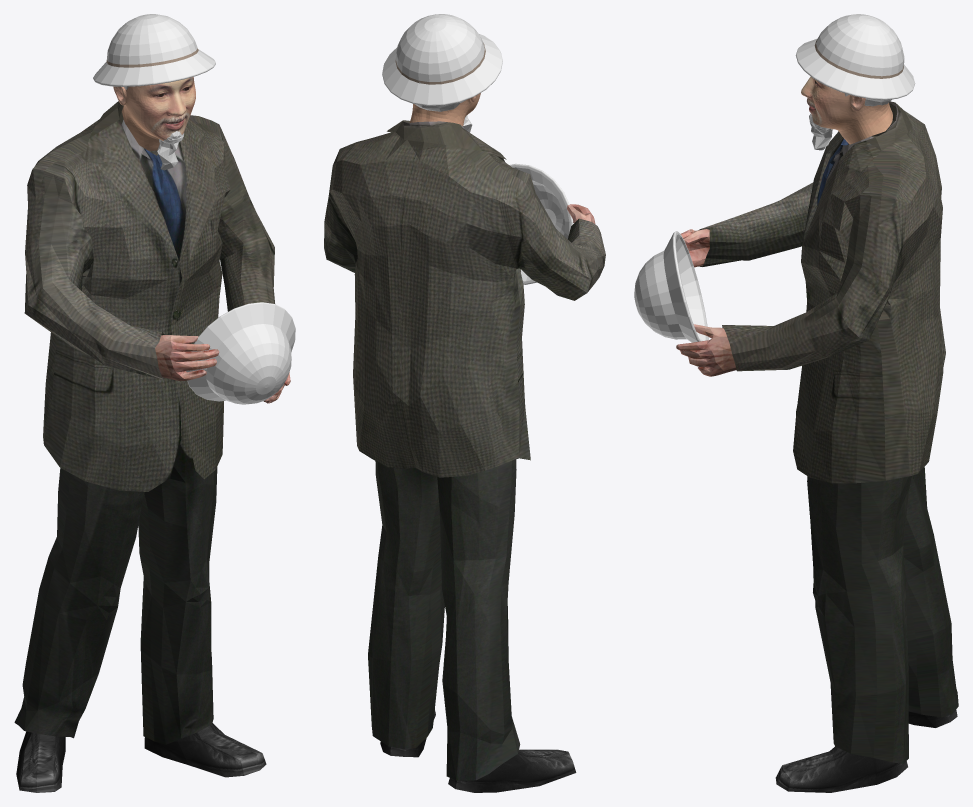
The model's file is HCM.glb.
3 renders of one model, left to right at view 1: azimuth 30°, elevation 25°; view 2: azimuth 150°, elevation 25°; view 3: azimuth 270°, elevation 25°, orthographic.
Visible parts, largest first — view 1: _G-Object.002 (Loose Mesh), G-Object.006, _G-Object.001 (Loose Mesh), G-Object.015, G-Object.014, G-Object.005, G-Object.012, G-Object.007, G-Object.008, G-Object.004, G-Object.010; view 2: _G-Object.002 (Loose Mesh), _G-Object.001 (Loose Mesh), G-Object.014, G-Object.006, G-Object.008, G-Object.015, G-Object.003, G-Object.012; view 3: _G-Object.002 (Loose Mesh), _G-Object.001 (Loose Mesh), G-Object.006, G-Object.014, G-Object.015, G-Object.007, G-Object.012, G-Object.004, G-Object.003.
Boxes of the visible parts, x1,y1,x2,y2 form: _G-Object.002 (Loose Mesh): (35,108,274,491); G-Object.006: (18,381,217,744); _G-Object.001 (Loose Mesh): (14,101,290,740); G-Object.015: (186,302,295,404); G-Object.014: (93,14,215,86); G-Object.005: (84,120,177,257); G-Object.012: (113,77,195,150); G-Object.007: (144,723,266,777); G-Object.008: (16,731,65,792); G-Object.004: (184,119,216,260); G-Object.010: (157,131,183,170); _G-Object.002 (Loose Mesh): (324,131,605,477); _G-Object.001 (Loose Mesh): (368,120,605,780); G-Object.014: (382,14,502,105); G-Object.006: (427,459,520,763); G-Object.008: (448,749,576,792); G-Object.015: (509,163,573,284); G-Object.003: (390,120,482,150); G-Object.012: (409,93,480,126); _G-Object.002 (Loose Mesh): (698,110,945,483); _G-Object.001 (Loose Mesh): (676,101,958,763); G-Object.006: (807,476,921,757); G-Object.014: (795,14,915,99); G-Object.015: (634,231,708,342); G-Object.007: (775,746,907,792); G-Object.012: (801,76,892,144); G-Object.004: (803,140,881,242); G-Object.003: (866,103,908,150).
Size of the model in its own units: 0.6625 by 1.83 by 0.7261.
Materials: 12 (9 with a texture image).
